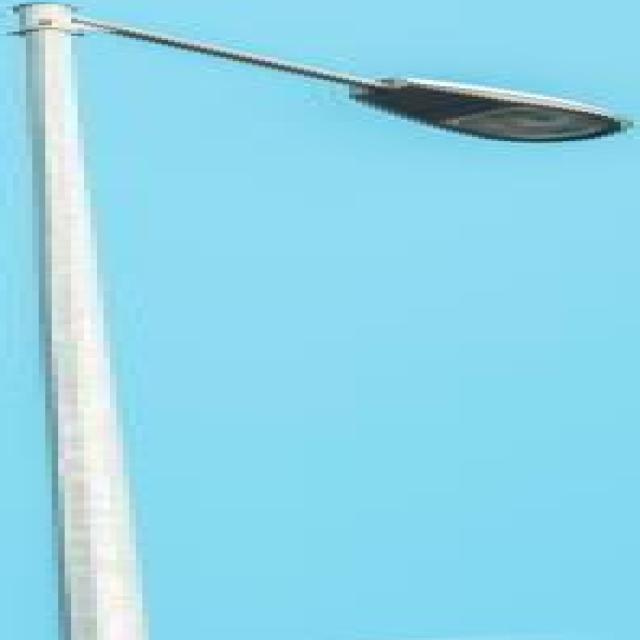street light: (6, 2, 640, 640)
